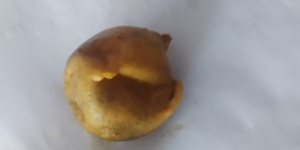BAD: (61, 24, 186, 139)
